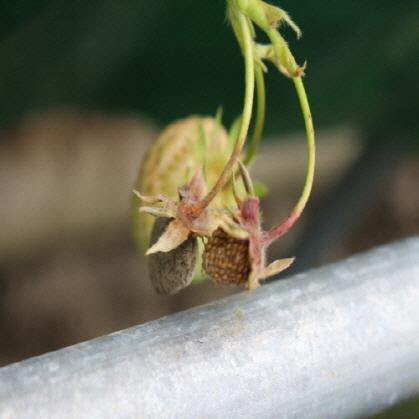Gray Mold: (130, 171, 217, 298)
